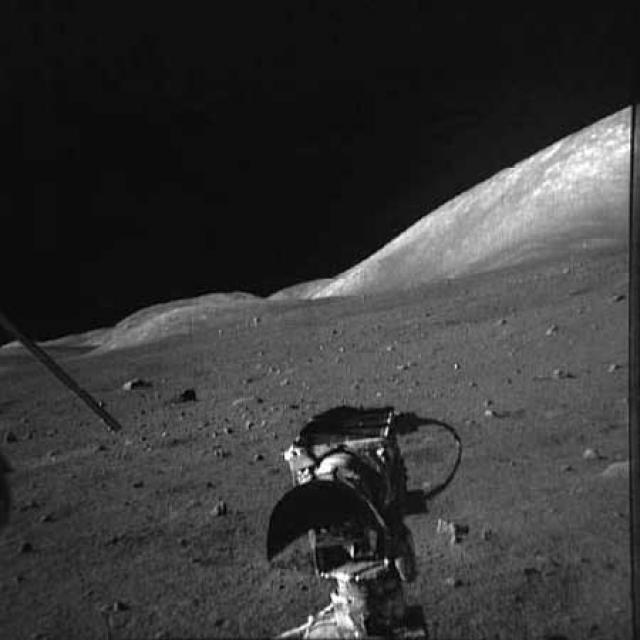artifact: (250, 393, 480, 640), (0, 289, 119, 459)
rock: (432, 514, 470, 550), (602, 458, 636, 493), (170, 384, 203, 414), (122, 372, 155, 396), (211, 490, 231, 524)
